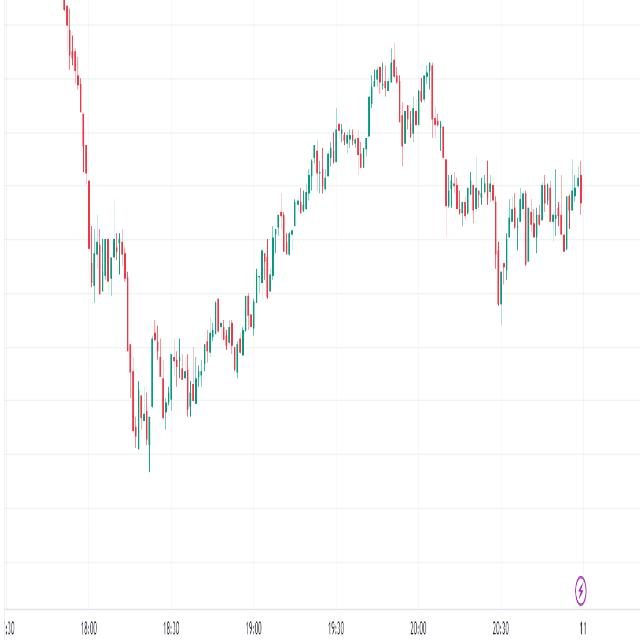Ascending-Triangle: (489, 154, 618, 386), (122, 286, 268, 486)
Channel-up: (232, 71, 344, 400)
